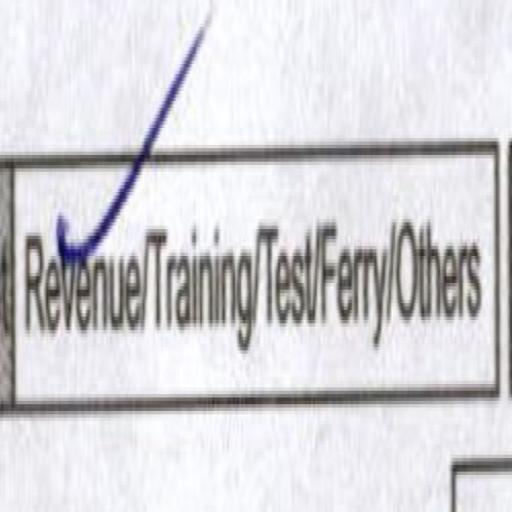check: (12, 117, 140, 451)
